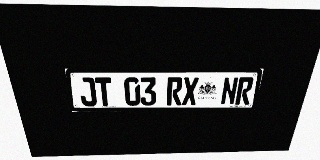0: (124, 77, 140, 106)
3: (140, 77, 156, 106)
J: (78, 77, 97, 106)
N: (220, 77, 239, 105)
R: (235, 77, 254, 105), (167, 77, 183, 105)
T: (95, 77, 113, 106)
X: (182, 77, 199, 105)
